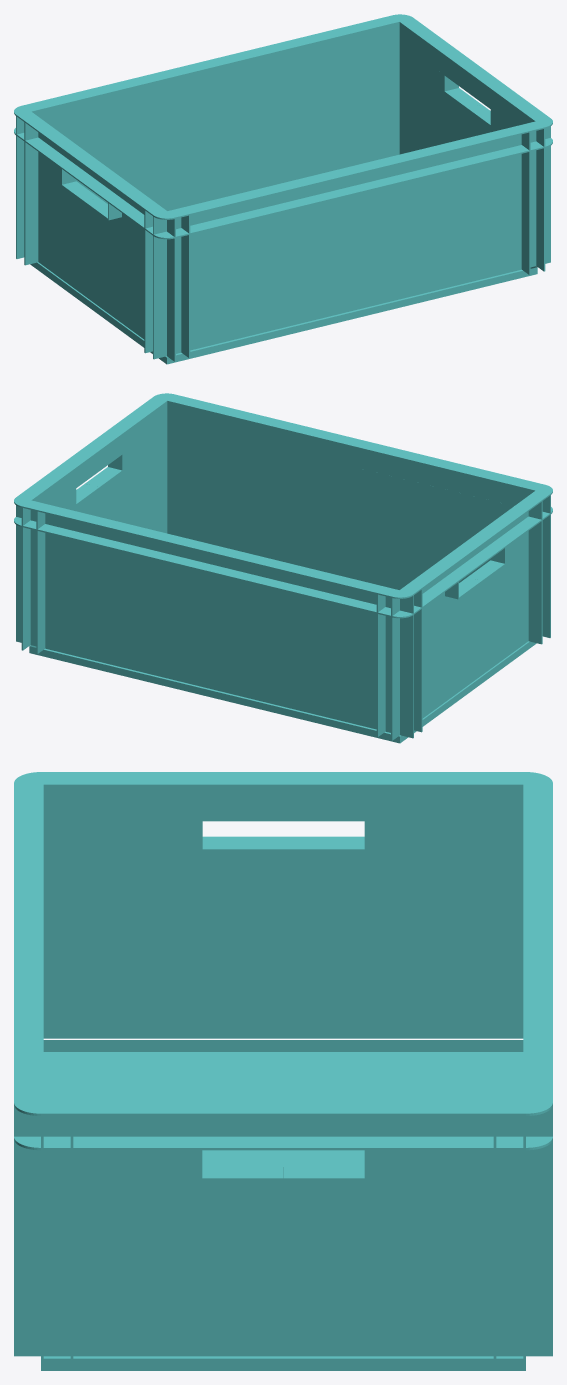
File: eurocontainer_600.dae
The picture shows the model from 3 angles, top to bottom: view 1: azimuth 30°, elevation 25°; view 2: azimuth 150°, elevation 25°; view 3: azimuth 270°, elevation 25°; orthographic projection. The views are drawn at different scales.
Visible parts, largest first — view 1: eurocontainer_600mm; view 2: eurocontainer_600mm; view 3: eurocontainer_600mm.
Boxes of the visible parts, x1=… form: eurocontainer_600mm: x1=14, y1=14, x2=552, y2=364; eurocontainer_600mm: x1=14, y1=393, x2=552, y2=743; eurocontainer_600mm: x1=14, y1=772, x2=552, y2=1370.
Bounding box in the file's own units: 0.6 × 0.4 × 0.22.
